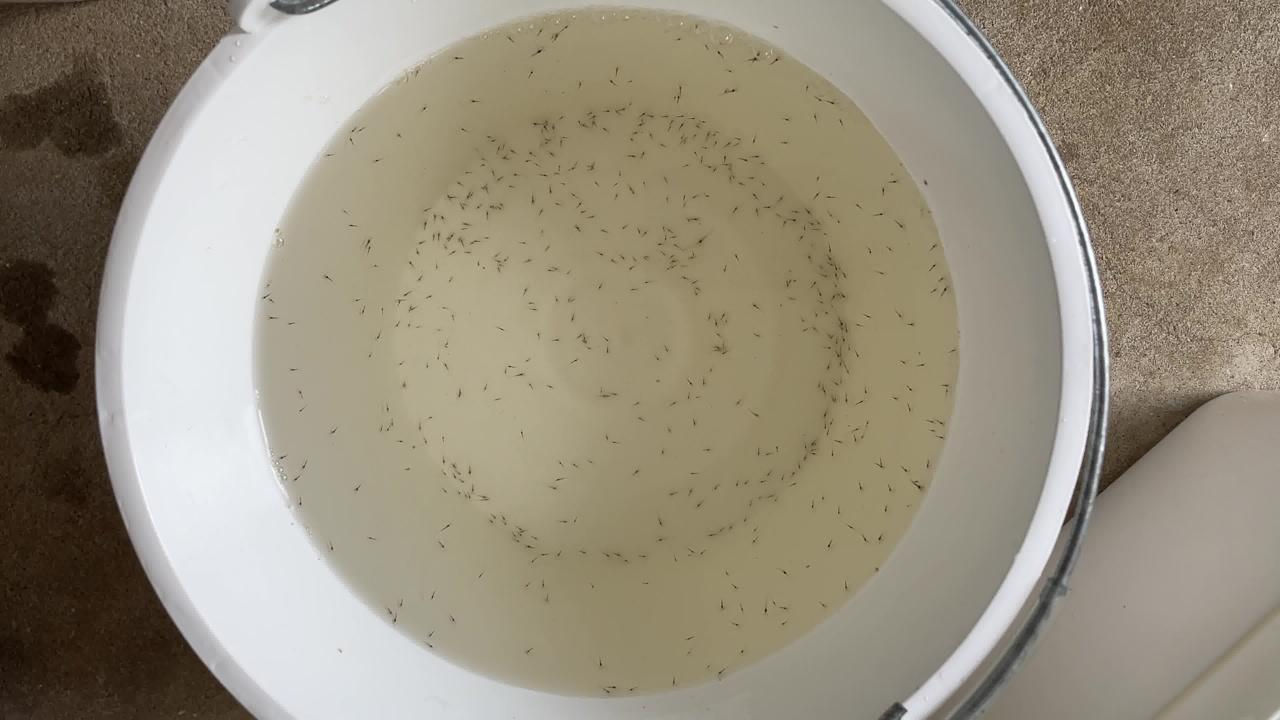shrimp: (676, 84, 688, 92), (728, 87, 740, 95), (717, 85, 729, 93), (733, 131, 745, 139), (735, 141, 747, 149), (752, 132, 764, 140), (724, 139, 736, 147), (710, 141, 722, 149), (712, 129, 724, 137), (705, 129, 717, 137), (690, 134, 702, 142), (684, 134, 696, 142), (680, 136, 692, 144), (678, 121, 690, 129), (694, 126, 706, 134), (700, 118, 712, 126), (689, 114, 701, 122), (678, 111, 690, 119), (669, 119, 681, 127), (666, 122, 678, 130), (664, 112, 676, 120), (649, 112, 661, 120), (637, 109, 649, 117), (638, 116, 650, 124), (644, 127, 656, 135), (657, 139, 669, 147), (639, 146, 651, 154), (627, 151, 639, 159), (627, 136, 639, 144), (633, 129, 645, 137), (626, 98, 638, 106), (617, 103, 629, 111), (615, 110, 627, 118), (606, 105, 618, 113), (602, 122, 614, 130), (588, 119, 600, 127), (589, 114, 601, 122), (588, 108, 600, 116), (579, 120, 591, 128), (558, 112, 570, 120), (561, 132, 573, 140), (556, 137, 568, 145), (545, 132, 557, 140), (543, 137, 555, 145), (549, 121, 561, 129), (533, 118, 545, 126), (543, 117, 555, 125), (543, 120, 555, 128), (537, 126, 549, 134), (588, 156, 600, 164), (587, 165, 599, 173), (583, 158, 595, 166), (593, 178, 605, 186), (609, 180, 621, 188), (618, 167, 630, 175), (625, 185, 637, 193), (613, 191, 625, 199), (641, 180, 653, 188), (575, 155, 587, 163), (568, 165, 580, 173), (553, 159, 565, 167), (550, 149, 562, 157), (553, 165, 565, 173), (560, 178, 572, 186), (567, 189, 579, 197), (572, 199, 584, 207), (578, 206, 590, 214), (591, 211, 603, 219), (577, 223, 589, 231), (559, 201, 571, 209), (551, 188, 563, 196), (540, 171, 552, 179), (532, 161, 544, 169), (526, 159, 538, 167), (528, 149, 540, 157), (510, 147, 522, 155), (500, 154, 512, 162), (494, 146, 506, 154), (501, 140, 513, 148), (491, 135, 503, 143), (486, 132, 498, 140), (461, 125, 473, 133), (471, 95, 483, 103), (483, 152, 495, 160), (478, 159, 490, 167), (487, 166, 499, 174), (492, 174, 504, 182), (510, 170, 522, 178), (509, 180, 521, 188), (529, 194, 541, 202), (533, 206, 545, 214), (628, 79, 640, 87), (611, 81, 623, 89), (607, 67, 619, 75), (576, 81, 588, 89), (461, 165, 473, 173), (480, 181, 492, 189), (475, 184, 487, 192), (454, 177, 466, 185), (468, 187, 480, 195), (462, 189, 474, 197), (451, 190, 463, 198), (443, 190, 455, 198), (460, 197, 472, 205), (458, 202, 470, 210), (474, 200, 486, 208), (482, 210, 494, 218), (498, 195, 510, 203), (498, 201, 510, 209), (489, 202, 501, 210), (438, 212, 450, 220), (426, 212, 438, 220), (421, 206, 433, 214), (419, 218, 431, 226), (462, 218, 474, 226), (461, 225, 473, 233), (485, 235, 497, 243), (474, 235, 486, 243), (470, 238, 482, 246), (464, 247, 476, 255), (458, 238, 470, 246), (449, 249, 461, 257), (442, 241, 454, 249), (445, 233, 457, 241), (437, 231, 449, 239), (432, 232, 444, 240), (420, 236, 432, 244), (415, 245, 427, 253), (408, 258, 420, 266), (427, 261, 439, 269), (444, 273, 456, 281), (416, 270, 428, 278), (520, 238, 532, 246), (543, 244, 555, 252), (526, 258, 538, 266), (504, 255, 516, 263), (496, 266, 508, 274), (496, 260, 508, 268), (493, 246, 505, 254), (478, 263, 490, 271), (472, 259, 484, 267), (594, 246, 606, 254), (603, 227, 615, 235), (618, 222, 630, 230), (662, 177, 674, 185), (662, 193, 674, 201), (677, 190, 689, 198), (682, 201, 694, 209), (691, 191, 703, 199), (702, 191, 714, 199), (684, 161, 696, 169), (690, 147, 702, 155), (702, 144, 714, 152), (697, 152, 709, 160), (704, 164, 716, 172), (709, 167, 721, 175), (720, 150, 732, 158), (721, 158, 733, 166), (725, 163, 737, 171), (733, 172, 745, 180), (727, 176, 739, 184), (739, 153, 751, 161), (748, 151, 760, 159), (755, 157, 767, 165), (743, 174, 755, 182), (758, 180, 770, 188), (749, 191, 761, 199), (753, 208, 765, 216), (733, 205, 745, 213), (775, 196, 787, 204), (764, 200, 776, 208), (773, 209, 785, 217), (777, 219, 789, 227), (785, 214, 797, 222), (790, 206, 802, 214), (812, 176, 824, 184), (812, 192, 824, 200), (821, 193, 833, 201), (786, 142, 798, 150), (786, 114, 798, 122), (802, 208, 814, 216), (813, 214, 825, 222), (809, 219, 821, 227), (811, 225, 823, 233), (822, 230, 834, 238), (836, 217, 848, 225), (828, 210, 840, 218), (799, 221, 811, 229), (796, 234, 808, 242), (827, 244, 839, 252), (688, 214, 700, 222), (696, 232, 708, 240), (729, 253, 741, 261), (722, 264, 734, 272), (691, 252, 703, 260), (674, 241, 686, 249), (674, 233, 686, 241), (667, 227, 679, 235), (657, 221, 669, 229), (661, 229, 673, 237), (656, 238, 668, 246), (643, 228, 655, 236), (633, 226, 645, 234), (618, 247, 630, 255), (605, 256, 617, 264), (628, 254, 640, 262), (627, 261, 639, 269), (642, 253, 654, 261), (656, 247, 668, 255), (666, 248, 678, 256), (669, 254, 681, 262), (669, 261, 681, 269), (678, 272, 690, 280), (693, 276, 705, 284), (696, 280, 708, 288), (690, 289, 702, 297), (753, 304, 765, 312), (751, 330, 763, 338), (720, 311, 732, 319), (720, 315, 732, 323), (710, 319, 722, 327), (707, 312, 719, 320), (715, 329, 727, 337), (718, 337, 730, 345), (719, 345, 731, 353), (714, 339, 726, 347), (710, 346, 722, 354), (644, 277, 656, 285), (629, 286, 641, 294), (599, 282, 611, 290), (567, 268, 579, 276), (553, 261, 565, 269), (550, 268, 562, 276), (565, 289, 577, 297), (570, 295, 582, 303), (568, 315, 580, 323), (554, 294, 566, 302), (529, 295, 541, 303), (529, 302, 541, 310), (519, 284, 531, 292), (779, 278, 791, 286), (786, 273, 798, 281), (795, 275, 807, 283), (789, 293, 801, 301), (809, 277, 821, 285), (815, 285, 827, 293), (819, 272, 831, 280), (804, 253, 816, 261), (824, 249, 836, 257), (821, 260, 833, 268), (832, 257, 844, 265), (839, 267, 851, 275), (832, 269, 844, 277), (829, 285, 841, 293), (840, 292, 852, 300), (828, 292, 840, 300), (827, 300, 839, 308), (815, 297, 827, 305), (823, 308, 835, 316), (816, 311, 828, 319), (800, 314, 812, 322), (809, 322, 821, 330), (802, 324, 814, 332), (834, 312, 846, 320), (837, 320, 849, 328), (841, 321, 853, 329), (826, 328, 838, 336), (830, 335, 842, 343), (838, 333, 850, 341), (843, 341, 855, 349), (855, 348, 867, 356), (820, 342, 832, 350), (831, 347, 843, 355), (834, 360, 846, 368), (841, 367, 853, 375), (826, 359, 838, 367), (837, 375, 849, 383), (831, 377, 843, 385), (821, 388, 833, 396), (814, 376, 826, 384), (829, 394, 841, 402), (842, 393, 854, 401), (856, 400, 868, 408), (864, 385, 876, 393), (864, 416, 876, 424), (860, 431, 872, 439), (852, 432, 864, 440), (853, 425, 865, 433), (828, 416, 840, 424), (823, 411, 835, 419), (823, 419, 835, 427), (821, 426, 833, 434), (833, 435, 845, 443), (829, 445, 841, 453), (812, 430, 824, 438), (812, 445, 824, 453), (809, 454, 821, 462), (801, 443, 813, 451), (802, 452, 814, 460), (792, 461, 804, 469), (790, 466, 802, 474), (789, 477, 801, 485), (778, 468, 790, 476), (766, 467, 778, 475), (774, 444, 786, 452), (767, 448, 779, 456), (755, 444, 767, 452), (759, 471, 771, 479), (756, 496, 768, 504), (764, 490, 776, 498), (771, 494, 783, 502), (743, 498, 755, 506), (748, 523, 760, 531), (748, 536, 760, 544), (739, 515, 751, 523), (730, 522, 742, 530), (718, 523, 730, 531), (710, 527, 722, 535), (857, 312, 869, 320), (854, 322, 866, 330), (880, 269, 892, 277), (867, 245, 879, 253), (886, 244, 898, 252), (897, 222, 909, 230), (876, 208, 888, 216), (856, 202, 868, 210), (878, 188, 890, 196), (889, 177, 901, 185), (838, 115, 850, 123), (813, 113, 825, 121), (826, 99, 838, 107), (816, 97, 828, 105), (803, 85, 815, 93), (769, 55, 781, 63), (752, 56, 764, 64), (756, 50, 768, 58), (725, 65, 737, 73), (718, 50, 730, 58), (706, 44, 718, 52), (693, 22, 705, 30), (677, 32, 689, 40), (675, 95, 687, 103), (668, 90, 680, 98), (659, 346, 671, 354), (655, 354, 667, 362), (705, 369, 717, 377), (700, 379, 712, 387), (682, 375, 694, 383), (685, 389, 697, 397), (690, 393, 702, 401), (735, 397, 747, 405), (751, 411, 763, 419), (692, 419, 704, 427), (672, 399, 684, 407), (651, 374, 663, 382), (604, 346, 616, 354), (604, 335, 616, 343), (585, 344, 597, 352), (585, 337, 597, 345), (574, 332, 586, 340), (569, 357, 581, 365), (554, 336, 566, 344), (536, 329, 548, 337), (505, 323, 517, 331), (495, 324, 507, 332), (523, 354, 535, 362), (547, 381, 559, 389), (528, 386, 540, 394), (518, 372, 530, 380), (511, 361, 523, 369), (503, 364, 515, 372), (513, 430, 525, 438), (493, 393, 505, 401), (486, 383, 498, 391), (598, 380, 610, 388), (600, 392, 612, 400), (607, 388, 619, 396), (630, 397, 642, 405), (637, 412, 649, 420), (661, 427, 673, 435), (700, 445, 712, 453), (716, 483, 728, 491), (730, 478, 742, 486), (744, 477, 756, 485), (692, 467, 704, 475), (684, 484, 696, 492), (692, 497, 704, 505), (669, 487, 681, 495), (660, 449, 672, 457), (633, 470, 645, 478), (614, 441, 626, 449), (600, 430, 612, 438), (587, 456, 599, 464), (571, 460, 583, 468), (559, 458, 571, 466), (559, 473, 571, 481), (552, 482, 564, 490), (894, 307, 906, 315), (907, 319, 919, 327), (914, 350, 926, 358), (919, 363, 931, 371), (901, 358, 913, 366), (902, 388, 914, 396), (903, 407, 915, 415), (890, 391, 902, 399), (947, 347, 959, 355), (942, 288, 954, 296), (929, 288, 941, 296), (935, 276, 947, 284), (926, 262, 938, 270), (928, 242, 940, 250), (942, 379, 954, 387), (942, 387, 954, 395), (939, 419, 951, 427), (924, 417, 936, 425), (928, 426, 940, 434), (938, 433, 950, 441), (926, 461, 938, 469), (913, 484, 925, 492), (903, 465, 915, 473), (878, 454, 890, 462), (875, 459, 887, 467), (885, 482, 897, 490), (883, 505, 895, 513), (877, 533, 889, 541), (862, 533, 874, 541), (847, 523, 859, 531), (833, 505, 845, 513), (855, 483, 867, 491), (819, 496, 831, 504), (807, 498, 819, 506), (824, 537, 836, 545), (846, 581, 858, 589), (821, 601, 833, 609), (806, 560, 818, 568), (780, 566, 792, 574), (769, 595, 781, 603), (777, 603, 789, 611), (779, 617, 791, 625), (762, 603, 774, 611), (732, 620, 744, 628), (736, 647, 748, 655), (720, 665, 732, 673), (736, 606, 748, 614), (733, 583, 745, 591), (722, 567, 734, 575), (717, 605, 729, 613), (687, 634, 699, 642), (687, 646, 699, 654), (703, 662, 715, 670), (668, 677, 680, 685), (629, 684, 641, 692), (614, 681, 626, 689), (602, 687, 614, 695), (597, 661, 609, 669), (645, 579, 657, 587), (674, 555, 686, 563), (687, 543, 699, 551), (689, 551, 701, 559), (700, 545, 712, 553), (656, 535, 668, 543), (658, 520, 670, 528), (640, 552, 652, 560), (622, 560, 634, 568), (617, 553, 629, 561), (604, 550, 616, 558), (589, 581, 601, 589), (582, 549, 594, 557), (574, 516, 586, 524), (559, 515, 571, 523), (557, 550, 569, 558), (545, 594, 557, 602), (537, 578, 549, 586), (525, 579, 537, 587), (527, 556, 539, 564), (542, 548, 554, 556), (531, 534, 543, 542), (527, 543, 539, 551), (510, 537, 522, 545), (510, 531, 522, 539), (516, 529, 528, 537), (517, 524, 529, 532), (499, 511, 511, 519), (500, 520, 512, 528), (489, 510, 501, 518), (487, 516, 499, 524), (475, 573, 487, 581), (526, 646, 538, 654), (449, 612, 461, 620), (474, 487, 486, 495), (478, 494, 490, 502), (465, 491, 477, 499), (454, 489, 466, 497), (440, 488, 452, 496), (464, 466, 476, 474), (454, 477, 466, 485), (449, 472, 461, 480), (451, 463, 463, 471), (440, 469, 452, 477), (439, 455, 451, 463), (438, 433, 450, 441), (455, 390, 467, 398), (427, 413, 439, 421), (415, 420, 427, 428), (419, 433, 431, 441), (410, 443, 422, 451), (397, 436, 409, 444), (390, 418, 402, 426), (382, 425, 394, 433), (379, 421, 391, 429), (383, 401, 395, 409), (401, 379, 413, 387), (441, 362, 453, 370), (434, 352, 446, 360), (424, 360, 436, 368), (441, 338, 453, 346), (447, 317, 459, 325), (440, 304, 452, 312), (435, 323, 447, 331), (417, 321, 429, 329), (395, 359, 407, 367), (405, 323, 417, 331), (394, 318, 406, 326), (371, 332, 383, 340), (368, 346, 380, 354), (425, 292, 437, 300), (412, 305, 424, 313), (404, 304, 416, 312), (394, 298, 406, 306), (404, 290, 416, 298), (376, 306, 388, 314), (358, 306, 370, 314), (351, 297, 363, 305), (373, 265, 385, 273), (366, 249, 378, 257), (364, 240, 376, 248), (352, 223, 364, 231), (342, 210, 354, 218), (560, 22, 572, 30), (555, 30, 567, 38), (548, 30, 560, 38), (536, 46, 548, 54), (529, 67, 541, 75), (534, 27, 546, 35), (504, 35, 516, 43), (456, 51, 468, 59), (414, 67, 426, 75), (420, 104, 432, 112), (395, 130, 407, 138), (372, 157, 384, 165), (357, 125, 369, 133), (350, 121, 362, 129), (350, 134, 362, 142), (328, 148, 340, 156), (322, 273, 334, 281), (262, 293, 274, 301), (263, 282, 275, 290), (267, 295, 279, 303), (270, 311, 282, 319), (286, 321, 298, 329), (291, 367, 303, 375), (296, 388, 308, 396), (300, 400, 312, 408), (327, 426, 339, 434), (301, 460, 313, 468), (290, 471, 302, 479), (281, 456, 293, 464), (294, 497, 306, 505), (353, 485, 365, 493), (401, 466, 413, 474), (440, 522, 452, 530), (439, 539, 451, 547), (368, 534, 380, 542), (323, 540, 335, 548), (427, 592, 439, 600), (429, 628, 441, 636), (426, 640, 438, 648), (399, 599, 411, 607), (382, 604, 394, 612), (390, 615, 402, 623), (610, 298, 622, 306), (645, 312, 657, 320), (777, 300, 789, 308), (537, 227, 549, 235), (925, 206, 937, 214), (898, 160, 910, 168), (905, 501, 917, 509), (874, 565, 886, 573), (273, 225, 285, 233), (559, 88, 571, 96)
